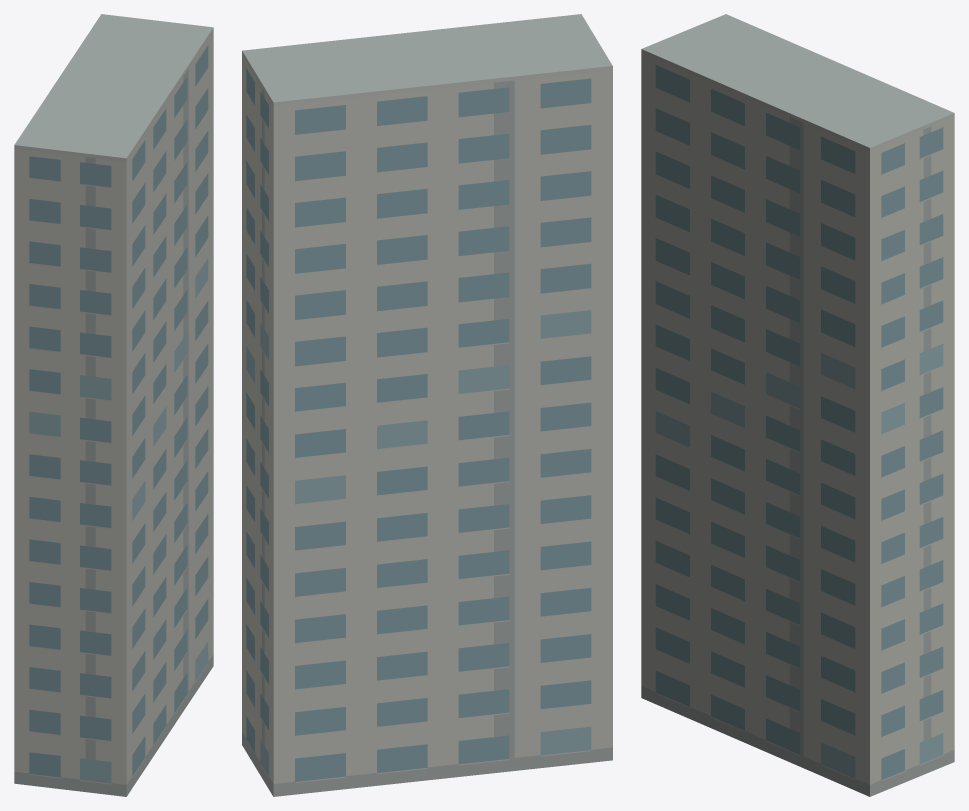
Rendered from residential-33d0ea94-6714-4052-9747-308bec548b18.glb.
3 renders of one model, left to right at view 1: azimuth 30°, elevation 25°; view 2: azimuth 150°, elevation 25°; view 3: azimuth 270°, elevation 25°, orthographic. The views are drawn at different scales.
Parts seen in each view (by area): view 1: residential-33d0ea94-6714-4052-9747-308bec548b18.tmp; view 2: residential-33d0ea94-6714-4052-9747-308bec548b18.tmp; view 3: residential-33d0ea94-6714-4052-9747-308bec548b18.tmp.
Part boxes in pixels (bbox=[...]): residential-33d0ea94-6714-4052-9747-308bec548b18.tmp: bbox=[14, 14, 213, 796]; residential-33d0ea94-6714-4052-9747-308bec548b18.tmp: bbox=[242, 14, 612, 796]; residential-33d0ea94-6714-4052-9747-308bec548b18.tmp: bbox=[641, 14, 954, 796].
Bounding box in the file's own units: 19.04 × 43 × 18.82.
